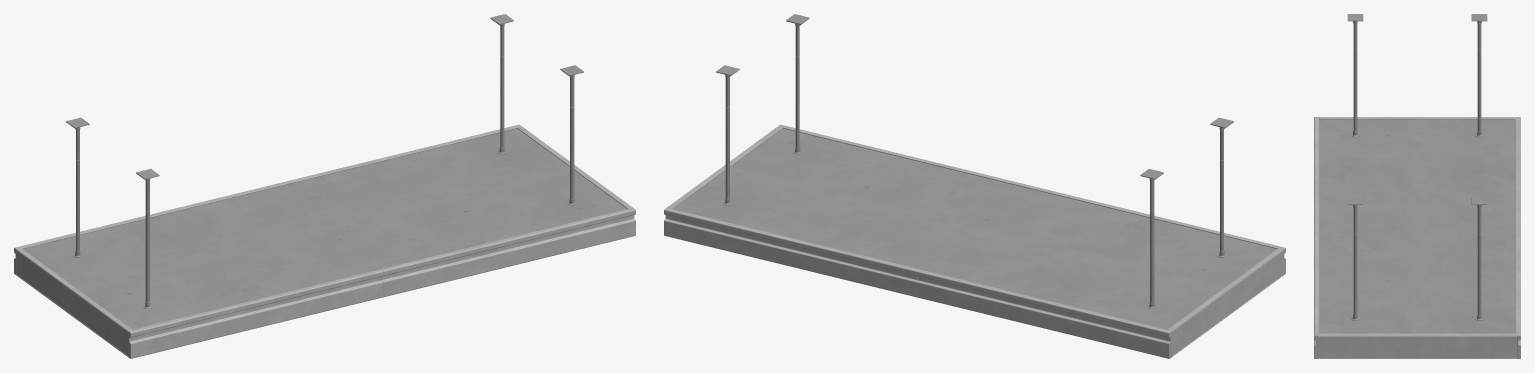
The model's file is ceiling_light.glb.
3 renders of one model, left to right at view 1: azimuth 30°, elevation 25°; view 2: azimuth 150°, elevation 25°; view 3: azimuth 270°, elevation 25°, orthographic. The views are drawn at different scales.
Visible parts, largest first — view 1: ceilinglamp_01_mesh_00; view 2: ceilinglamp_01_mesh_00; view 3: ceilinglamp_01_mesh_00.
Part boxes in pixels (<box>): ceilinglamp_01_mesh_00: <box>14,14,635,358</box>; ceilinglamp_01_mesh_00: <box>664,14,1285,358</box>; ceilinglamp_01_mesh_00: <box>1314,14,1520,358</box>.
Size of the model in its own units: 1 by 0.3 by 0.3999.
3 materials, 3 textured.
